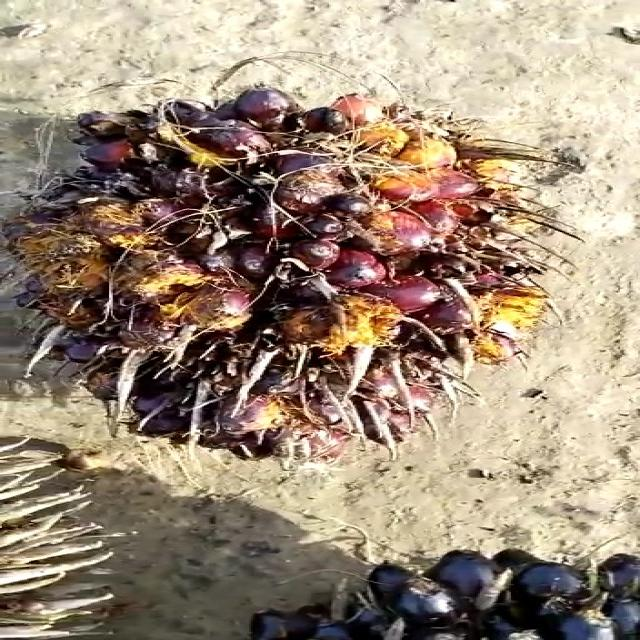palm oil: (37, 74, 573, 470)
